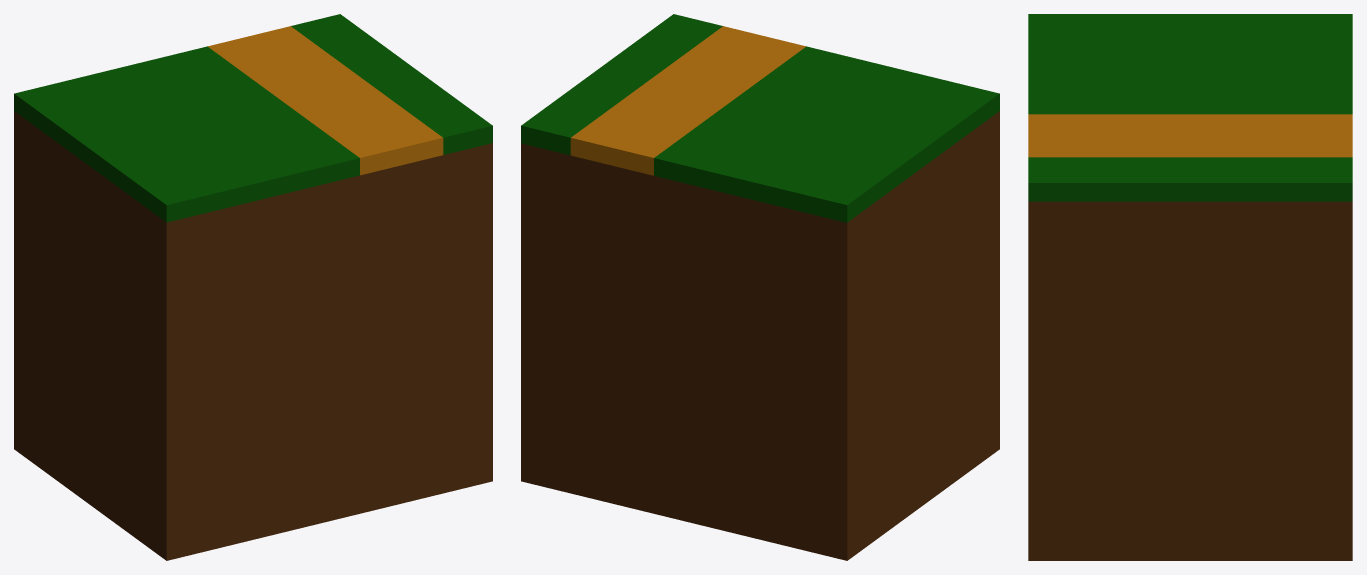
The model's file is solbase.fbx.
3 views of the same model, side by side, from view 1: azimuth 30°, elevation 25°; view 2: azimuth 150°, elevation 25°; view 3: azimuth 270°, elevation 25° (orthographic). The views are drawn at different scales.
Parts seen in each view (by area): view 1: floor.001; view 2: floor.001; view 3: floor.001.
Boxes of the visible parts, x1=… form: floor.001: x1=14, y1=14, x2=492, y2=560; floor.001: x1=521, y1=14, x2=999, y2=560; floor.001: x1=1028, y1=14, x2=1352, y2=560.
Bounding box in the file's own units: 3873 × 4036 × 3137.
